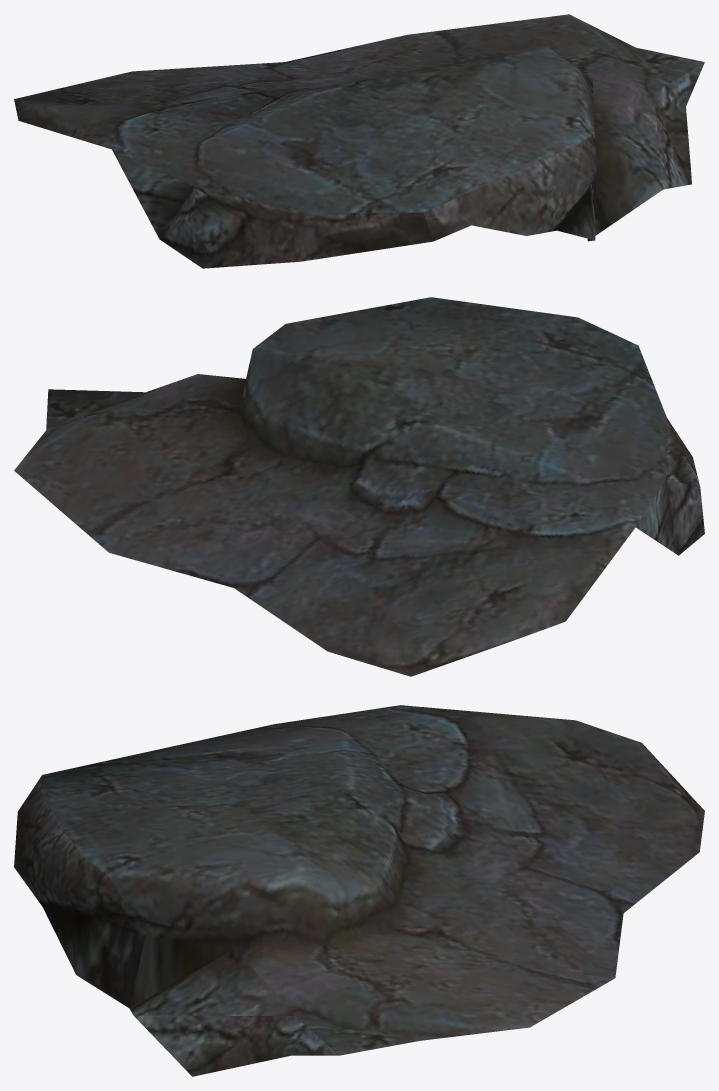
The model's file is S_Rock_Yellow033_11.FBX.
3 renders of one model, top to bottom at view 1: azimuth 30°, elevation 25°; view 2: azimuth 150°, elevation 25°; view 3: azimuth 270°, elevation 25°, orthographic. The views are drawn at different scales.
Visible parts, largest first — view 1: S_Rock_Yellow033_11; view 2: S_Rock_Yellow033_11; view 3: S_Rock_Yellow033_11.
Boxes of the visible parts, bbox=[...] form: S_Rock_Yellow033_11: bbox=[14, 14, 704, 268]; S_Rock_Yellow033_11: bbox=[14, 297, 704, 676]; S_Rock_Yellow033_11: bbox=[14, 705, 704, 1076].
Size of the model in its own units: 256 by 232 by 55.2.
